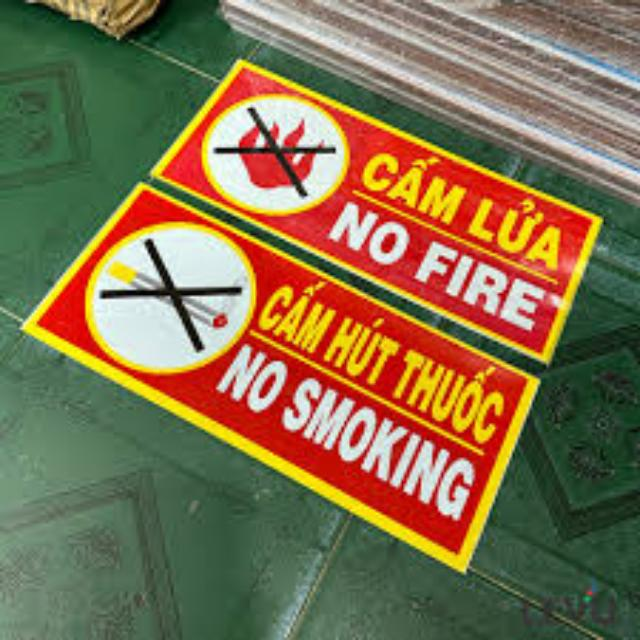cam lua: (23, 185, 535, 569), (156, 63, 597, 361)
